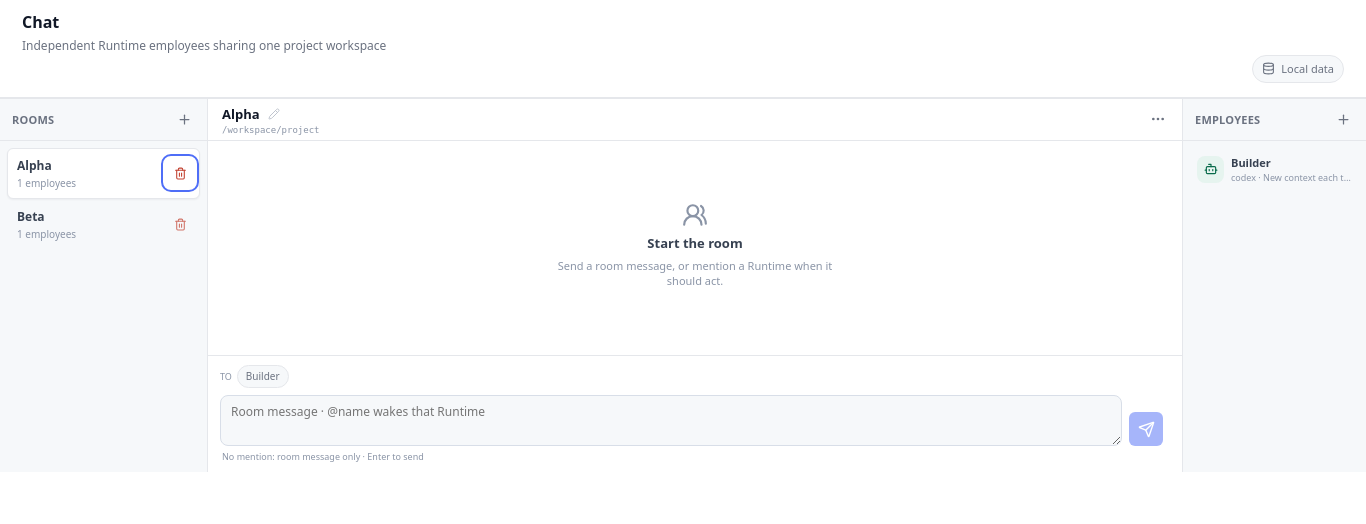
Test case: TeamChatPage rooms › keeps the user's new focus when deletion later fails
The width and height of the screenshot is (1366, 524).
expect the 1st text "Alpha" is shown: met, box [222, 105, 260, 123]
Click the button named "Delete room “Alpha”".
click(180, 173)  # box [165, 158, 195, 188]
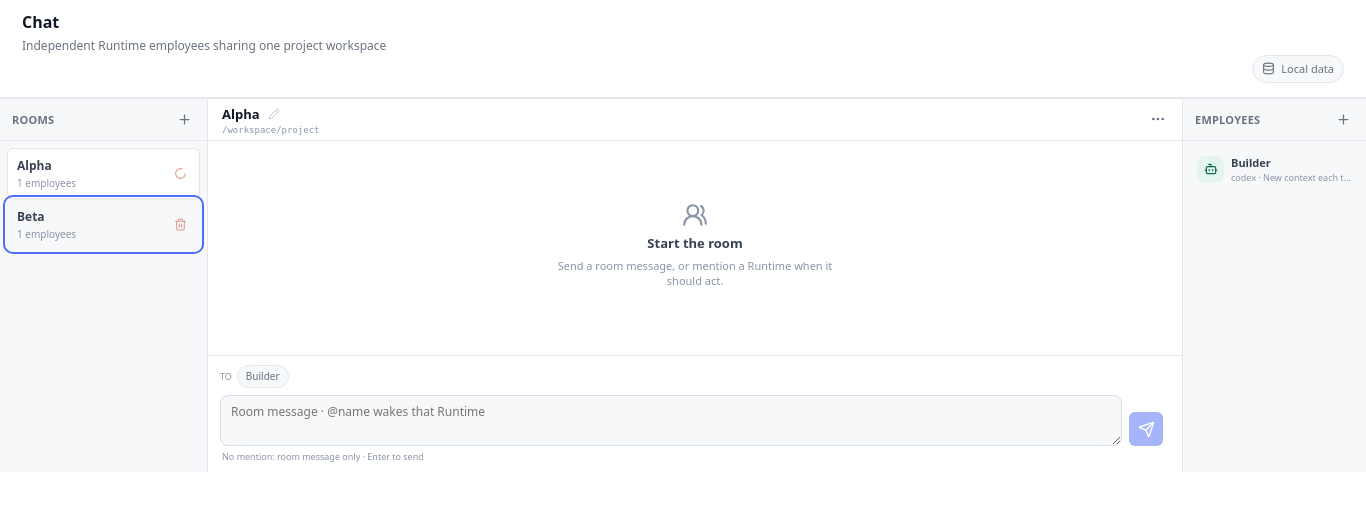
Click the button with class "team-chat-room-select" showing "Beta 1 employees".
click(104, 224)  # box [7, 199, 200, 250]
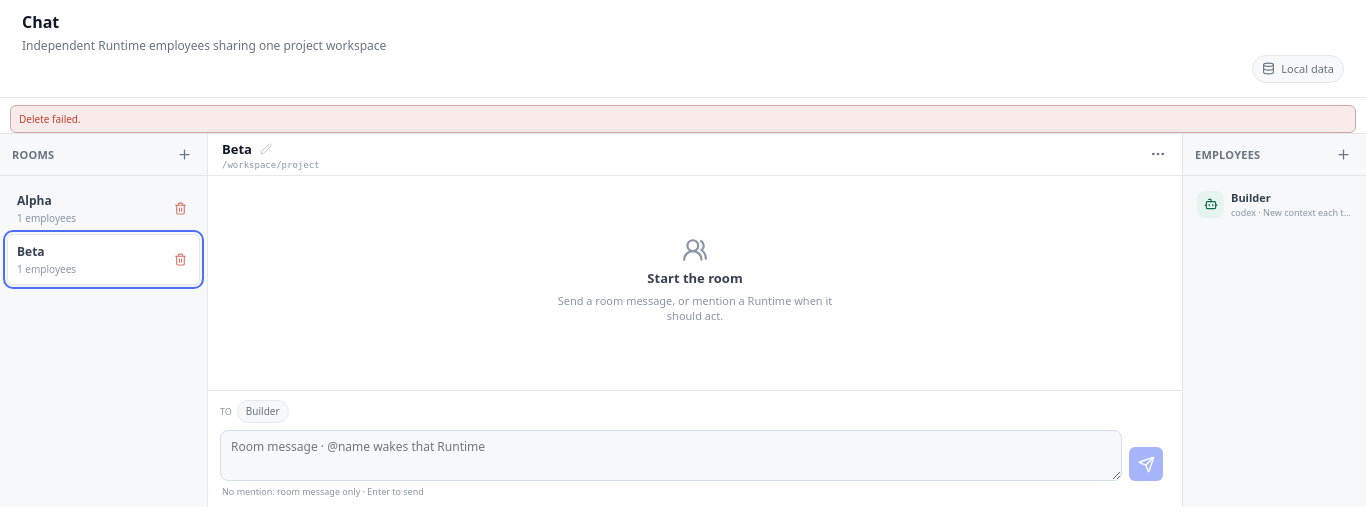
expect the 1st text "Beta" is shown: met, box [222, 140, 252, 158]
expect the message "Delete failed." is shown: met, box [10, 105, 1356, 133]
